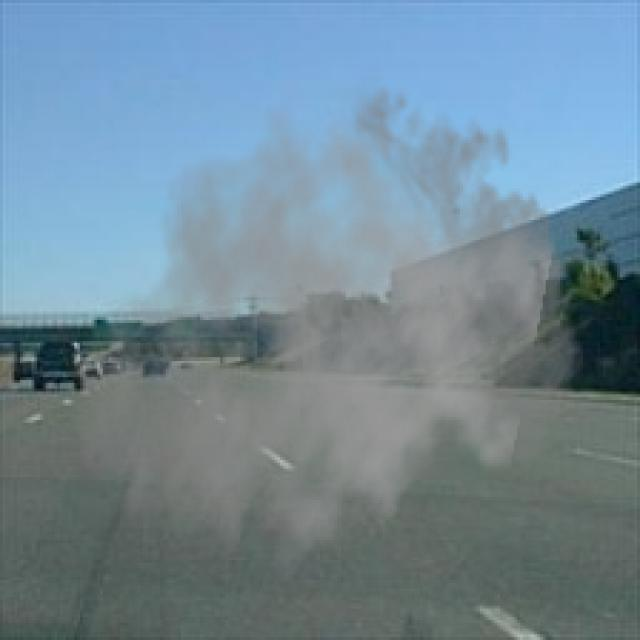Smoke: (71, 66, 592, 603)
